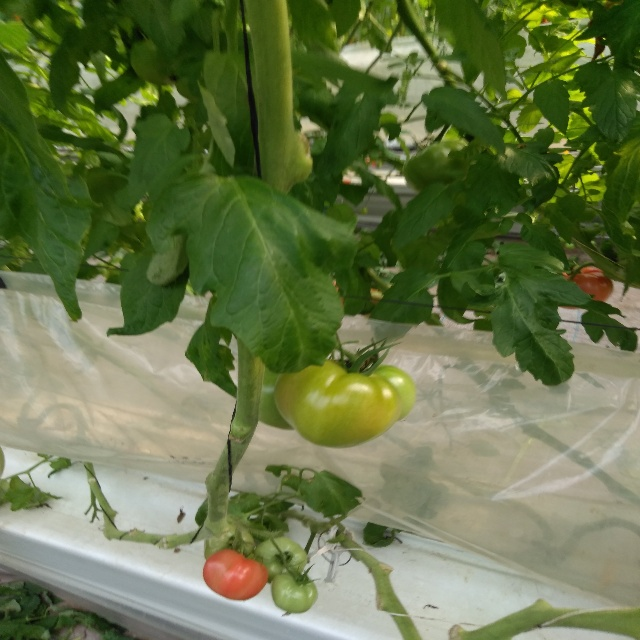b_fully_ripened: (557, 266, 614, 309)
b_green: (273, 359, 416, 449), (254, 536, 308, 584), (258, 366, 293, 430), (204, 524, 255, 561), (271, 574, 318, 614)
b_half_ripened: (202, 549, 269, 600)
